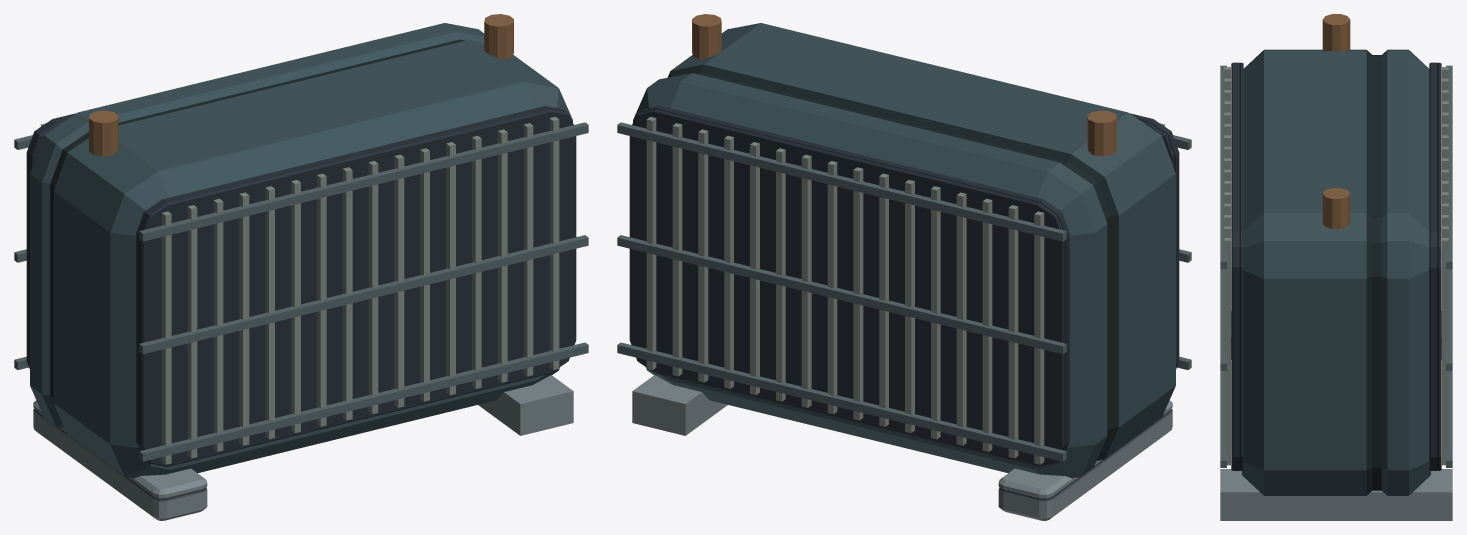
File: HX-06_cooler_cassette.glb
3 renders of one model, left to right at view 1: azimuth 30°, elevation 25°; view 2: azimuth 150°, elevation 25°; view 3: azimuth 270°, elevation 25°, orthographic. The views are drawn at different scales.
Visible parts, largest first — view 1: HX-06_cooler_cassette; view 2: HX-06_cooler_cassette; view 3: HX-06_cooler_cassette.
Boxes of the visible parts, box(x1,y1,x2,y2) form: HX-06_cooler_cassette: box(14, 14, 588, 520); HX-06_cooler_cassette: box(617, 14, 1191, 520); HX-06_cooler_cassette: box(1220, 14, 1452, 520).
Bounding box in the file's own units: 3.65 × 2.7 × 1.76.
